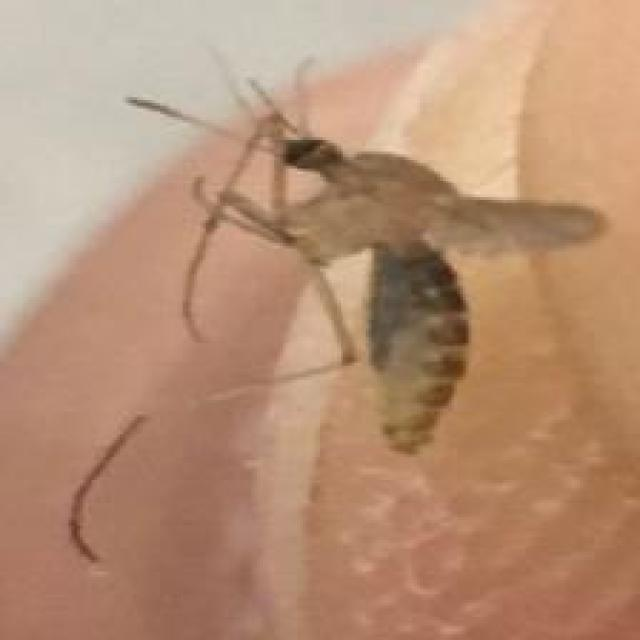Culex: (123, 49, 608, 460)
